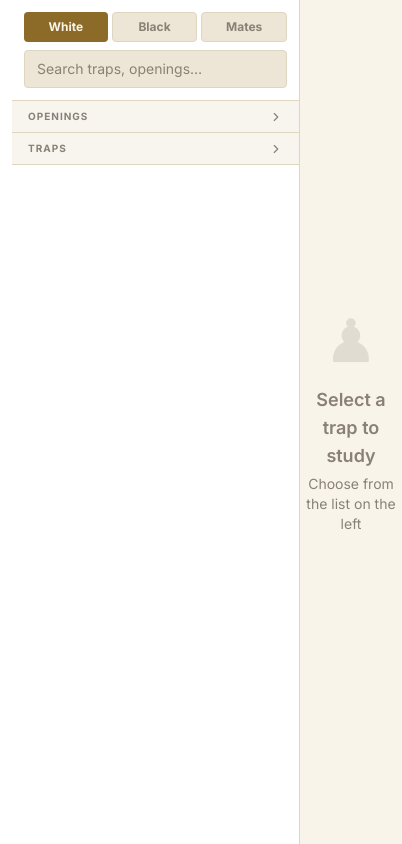
Test: OpeningsPage › an unmatched search shows the empty state
Type "zzznotreal" into the field with placeholder "Search traps, openings…" at (156, 69), box [24,50,287,88]
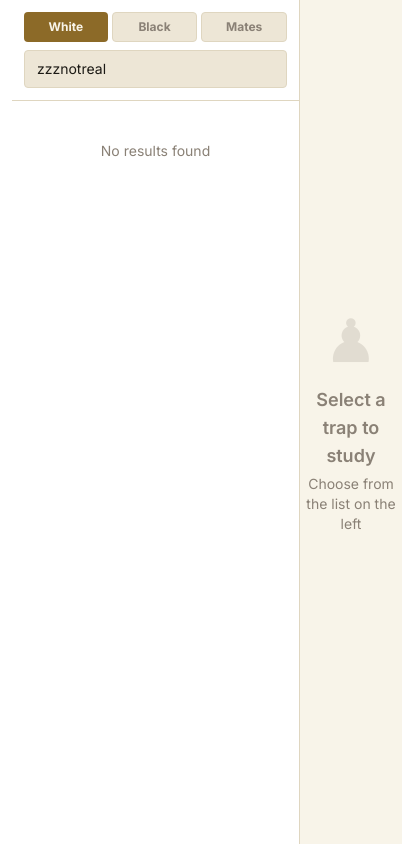
Expected: the text "No results found" is shown, [101,142,210,159]
